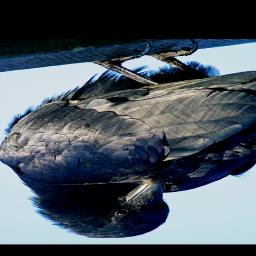Crow: (2, 40, 256, 239)
